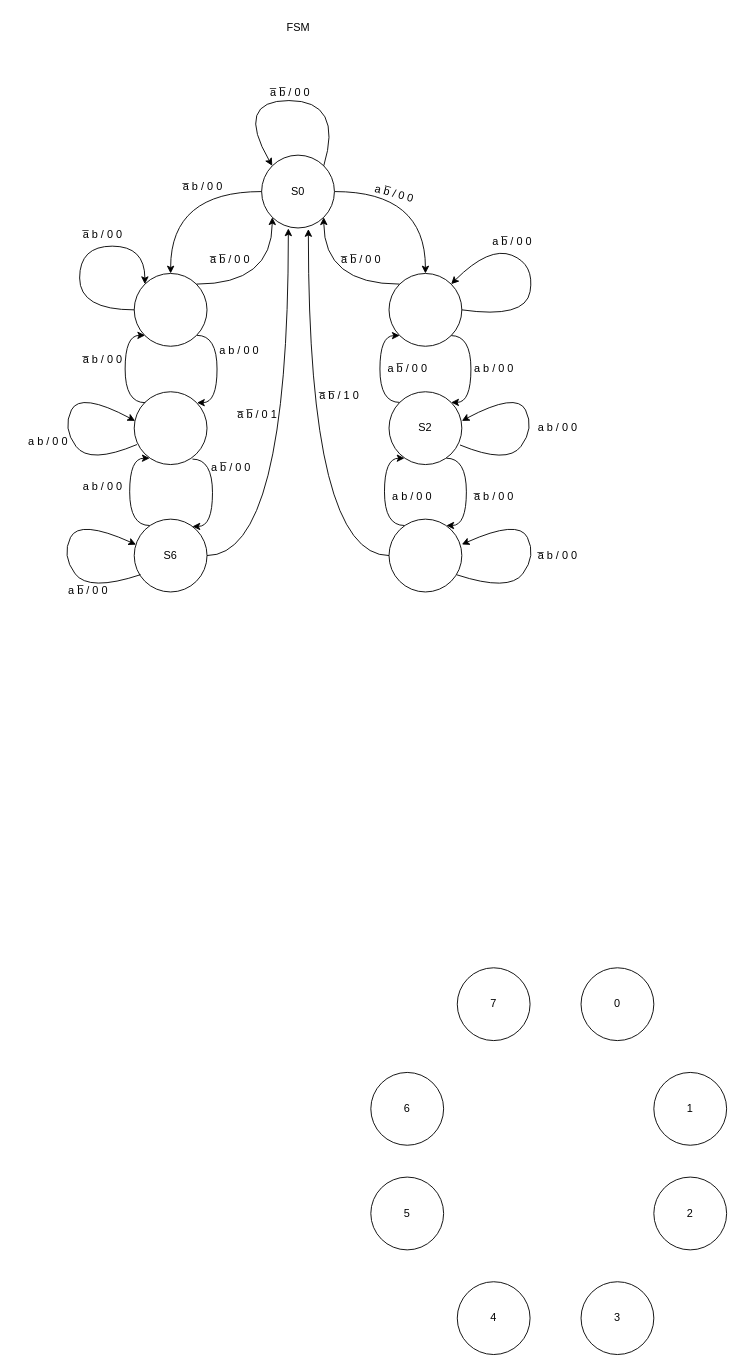
Image size: 743x1370. Some labels were removed from this diagram. Here are the shapes that lost their labels. From the top down, the centre of each, then its label:
the point at 170,309: S4
the point at 425,309: S1
the point at 170,428: S5
the point at 425,555: S3
